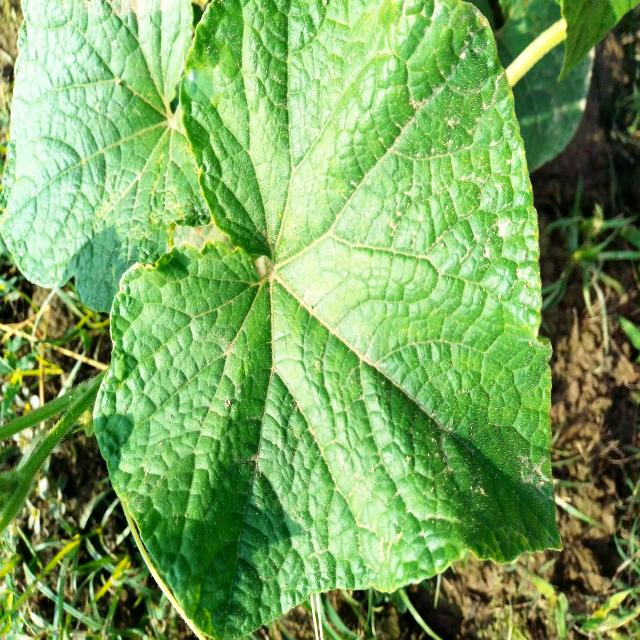Fresh-Leaf: (91, 0, 563, 640)
